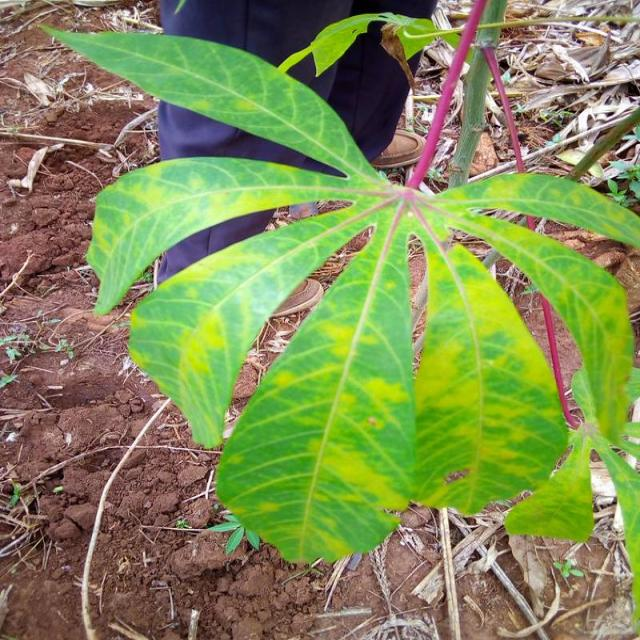cassava leaf: (40, 18, 638, 570), (214, 198, 416, 566), (412, 240, 570, 517)
